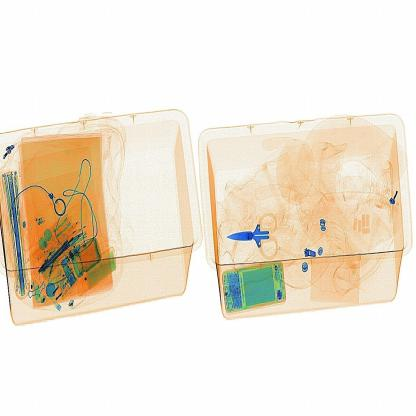gun: (226, 206, 288, 262)
